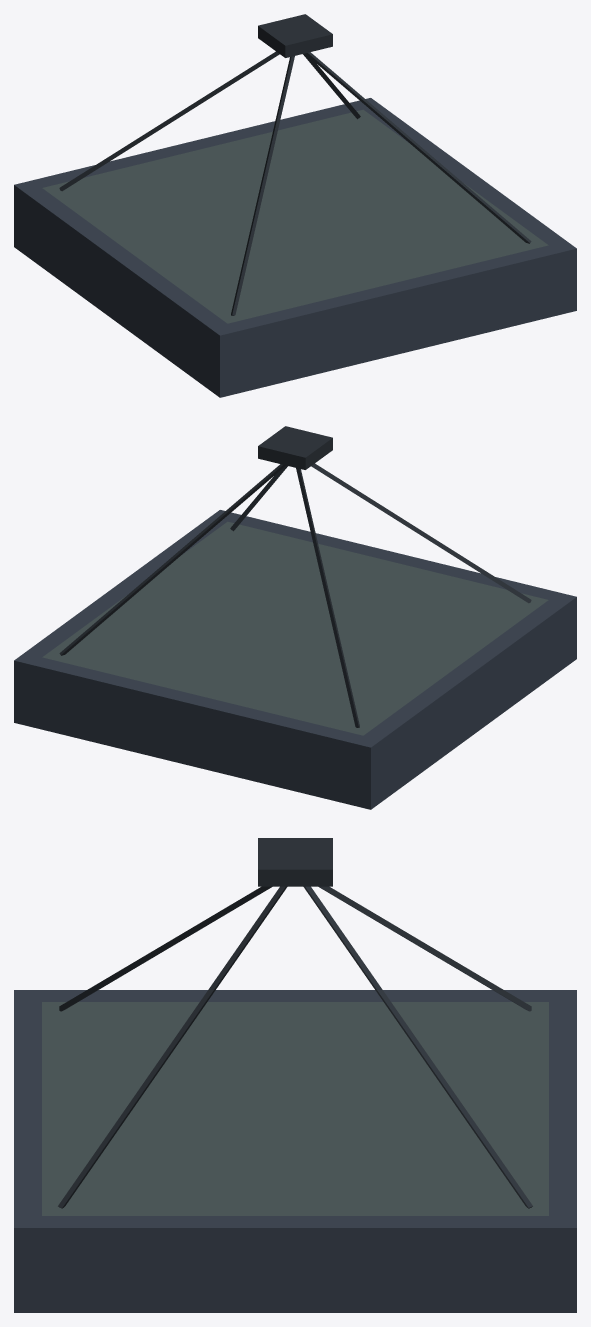
The model's file is Lab_CeilingLamp.fbx.
3 renders of one model, top to bottom at view 1: azimuth 30°, elevation 25°; view 2: azimuth 150°, elevation 25°; view 3: azimuth 270°, elevation 25°, orthographic. The views are drawn at different scales.
Visible parts, largest first — view 1: Lab_CeilingLamp; view 2: Lab_CeilingLamp; view 3: Lab_CeilingLamp.
Part boxes in pixels (x1,y1,x2,y2): Lab_CeilingLamp: [14, 14, 576, 397]; Lab_CeilingLamp: [14, 426, 576, 809]; Lab_CeilingLamp: [14, 838, 576, 1312].
Bounding box in the file's own units: 0.6 × 0.4 × 0.6.
